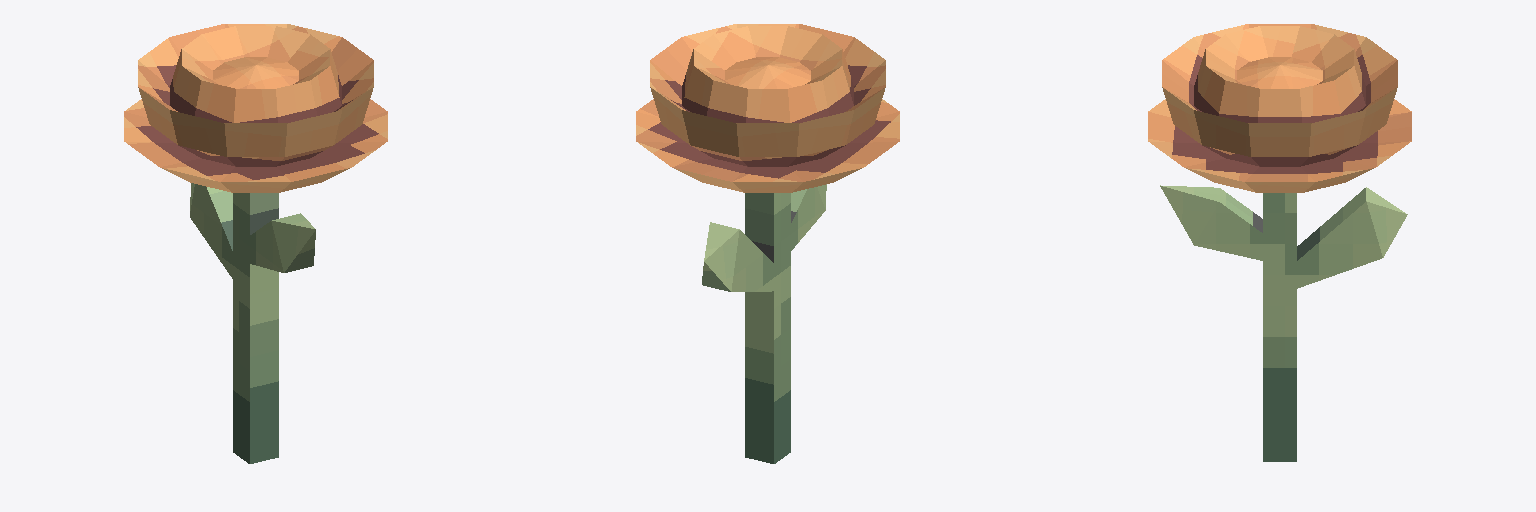
The picture shows the model from 3 angles: view 1: azimuth 30°, elevation 25°; view 2: azimuth 150°, elevation 25°; view 3: azimuth 270°, elevation 25°; orthographic projection.
Visible parts, largest first — view 1: sphere; view 2: sphere; view 3: sphere.
Part boxes in pixels (x1,y1,x2,y2): sphere: (124,24,387,463); sphere: (636,24,899,463); sphere: (1148,24,1411,461).
Bounding box in the file's own units: 0.4795 × 0.7969 × 0.4795.
Materials: 1 (1 with a texture image).